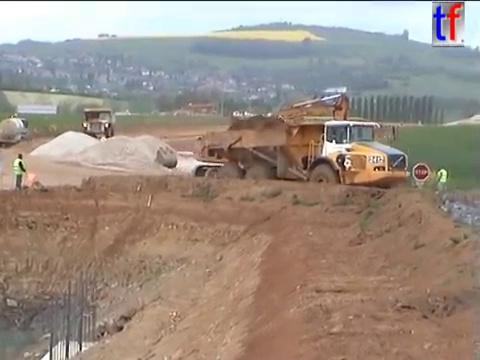excavator: (190, 92, 356, 185)
truck: (204, 115, 411, 201), (80, 106, 115, 141), (1, 111, 30, 151)
worker: (10, 151, 29, 191), (433, 164, 450, 196)
